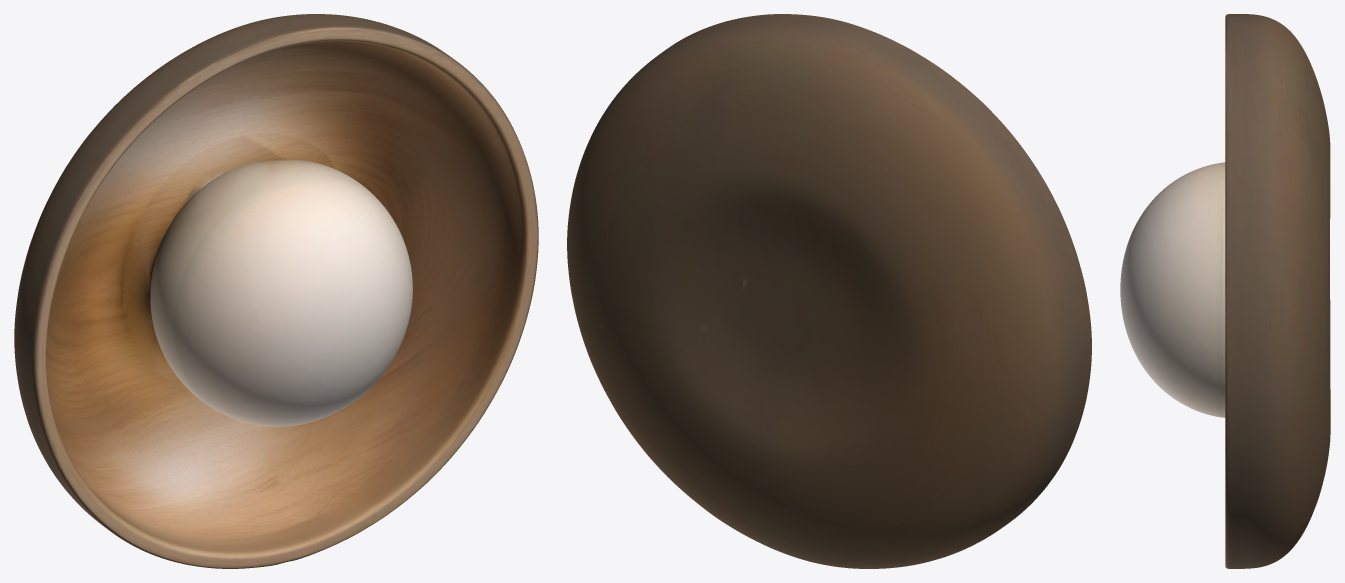
Rendered from wall_sconce.glb.
3 renders of one model, left to right at view 1: azimuth 30°, elevation 25°; view 2: azimuth 150°, elevation 25°; view 3: azimuth 270°, elevation 25°, orthographic. The views are drawn at different scales.
Visible parts, largest first — view 1: node_0; view 2: node_0; view 3: node_0.
Boxes of the visible parts, left/top/right/bottom form: node_0: left=14, top=14, right=538, bottom=568; node_0: left=567, top=14, right=1091, bottom=568; node_0: left=1120, top=14, right=1330, bottom=568.
Size of the model in its own units: 1.19 by 1.2 by 0.4519.
1 material, 1 textured.
